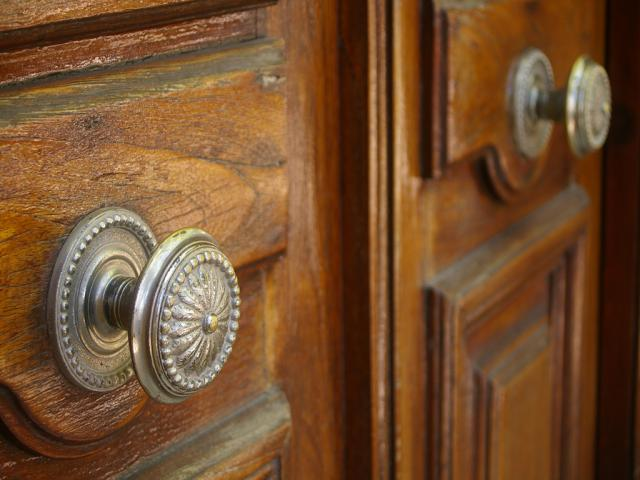Door-handle: (46, 204, 242, 404)
